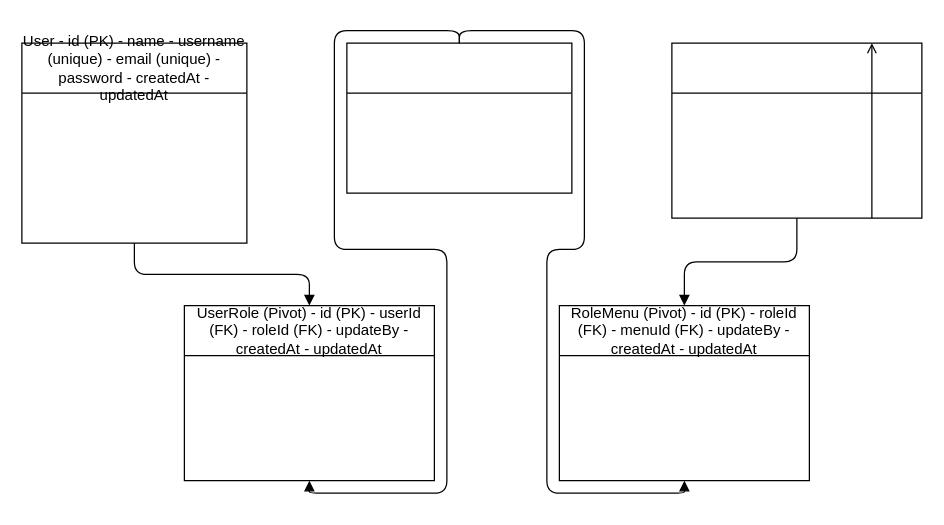
The diagram is 944 pixels wide and 525 high, and some of its shapes have lost their labels. Here are the shapes that lost their labels. From the top down, the centre of each, then its label:
At point (459, 117): "Role - id (PK) - name (unique) - createdAt - updatedAt".
At point (796, 130): "Menu - id (PK) - name (unique) - path - parentId (FK) - createdAt - updatedAt".
